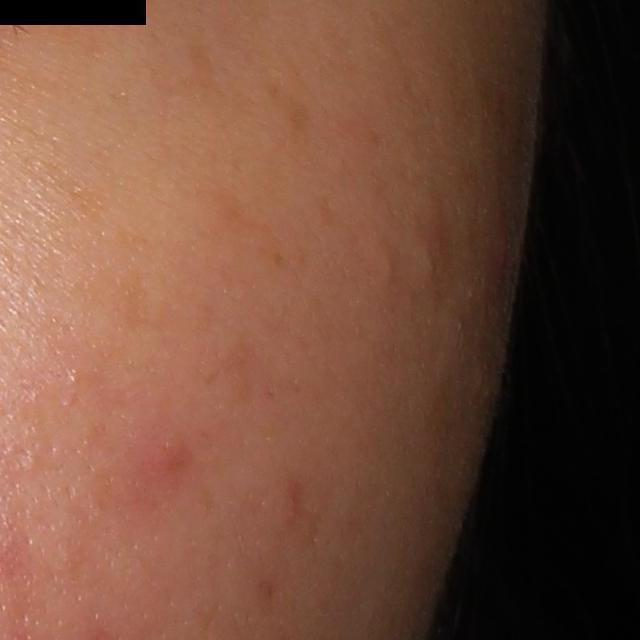comedo: (381, 253, 397, 277)
